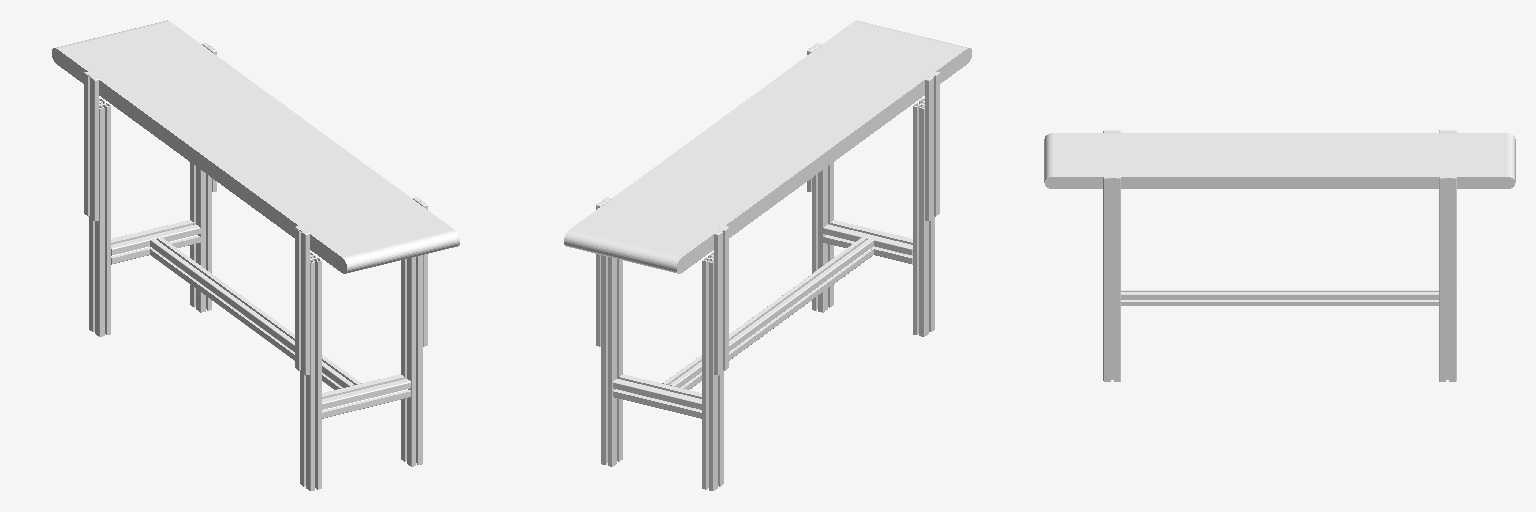
robot.urdf — liukuhihna_gazebo:
<?xml version="1.0" encoding="utf-8"?>
<!-- This URDF was automatically created by SolidWorks to URDF Exporter! Originally created by [author] ([email redacted]) 
     Commit Version: 1.5.1-0-g916b5db  Build Version: 1.5.7152.31018
     For more information, please see http://wiki.ros.org/sw_urdf_exporter -->
<robot name="liukuhihna_gazebo">

	<link name="world" />

	<joint name="fixed0" type="fixed">
		<parent link="world"/>
		<child link="belt_visual"/>
		<origin xyz="1.07 0.0 0.0" rpy="0.0 0.0 0"/>
	</joint>
	

	<link name="belt_visual">
		<inertial>
			<!-- <origin xyz="1.1327E-16 -3.3286E-17 0.66019" rpy="0 0 0" /> -->
			<origin xyz="1.1327E-16 -3.3286E-17 0.66019" rpy="0 0 0" />
			<mass value="71.953" />
			<inertia ixx="7.5972" ixy="-1.394E-14" ixz="1.9328E-17" iyy="0.99673" iyz="-9.2056E-18" izz="8.1168" />
		</inertial>
		<visual>
			<origin xyz="0 0.0 0" rpy="0 0 0" />
			<geometry>
				<mesh filename="package://demo_world/meshes/conveyor_belt.stl" />
			</geometry>
			<material name="white">
				<color rgba="1 1 1 1" />
			</material>
		</visual>
		<collision>
			<origin xyz="0.0 0.0 0" rpy="0 0 0"/>
			<geometry>
				<mesh filename="package://demo_world/meshes/conveyor_simple.stl" />
			</geometry>
		</collision>
	</link>

	<joint name="belt_joint" type="prismatic">
		<origin xyz="0.0 0.0 0.74" rpy="0.0 0.0 0.0"/>
		<parent link="belt_visual"/>
		<child link="belt_moving"/>
		<axis xyz="0 1 0"/>
		<limit lower="0.0" upper="1" effort="1000" velocity="1000"/>
	</joint>

	<link name="belt_moving">
		<inertial>
			<origin xyz="0.0 0.0 0.0" rpy="0.0 0.0 0.0"/>
			<mass value="100"/>
			<inertia ixx="0.0" ixy="0.0" ixz="0.0" iyy="0.0" iyz="0.0" izz="0.0"/>
		</inertial>
		<collision>
			<origin xyz="0.0 0.0 0.0005" rpy="0.0 0.0 0.0"/>
			<geometry>
				<box size="0.425 1.2 0.001"/>
			</geometry>
		</collision>
	</link>
<!-- 
	<gazebo>
		<plugin name="conveyor_belt_plugin" filename="libROSConveyorBeltPlugin.so">
			<robot_namespace>/</robot_namespace>
			<link>belt_moving</link>
			<power>0</power>
			<max_velocity>1.0</max_velocity>
		</plugin>
	</gazebo>
	-->
</robot>

--- What the picture shows (computed from the rendered views, not written in the file) ---
The picture shows the robot from 3 angles, left to right: view 1: azimuth 30°, elevation 25°; view 2: azimuth 150°, elevation 25°; view 3: azimuth 270°, elevation 25°; orthographic projection.
Model liukuhihna_gazebo with 3 links and 2 joints (1 prismatic, 1 fixed), rooted at world, posed every joint at zero.
Links seen in each view (by area): view 1: belt_visual; view 2: belt_visual; view 3: belt_visual.
Link boxes in pixels (bbox=[...]): belt_visual: bbox=[52, 20, 459, 490]; belt_visual: bbox=[564, 20, 971, 490]; belt_visual: bbox=[1044, 130, 1515, 381].
Size in the robot's own frame: 0.3703 by 1.54 by 0.743 metres.
1 mesh visuals loaded from 1 distinct referenced files (1 binary STL).
